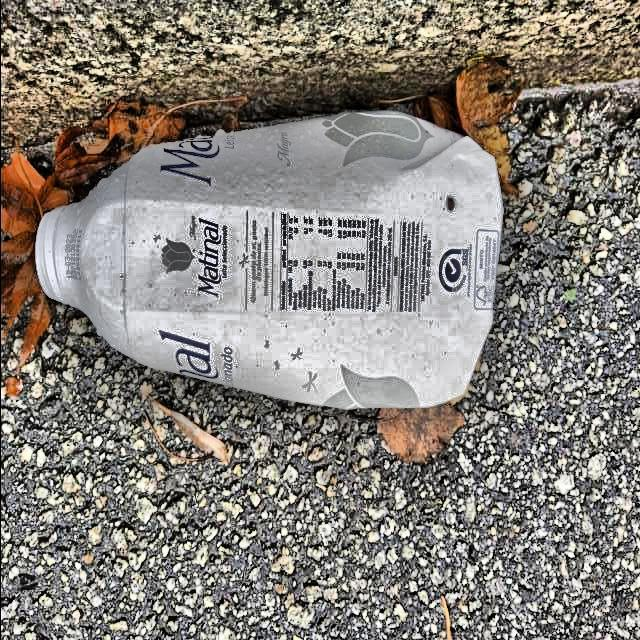plastic: (35, 111, 502, 409)
